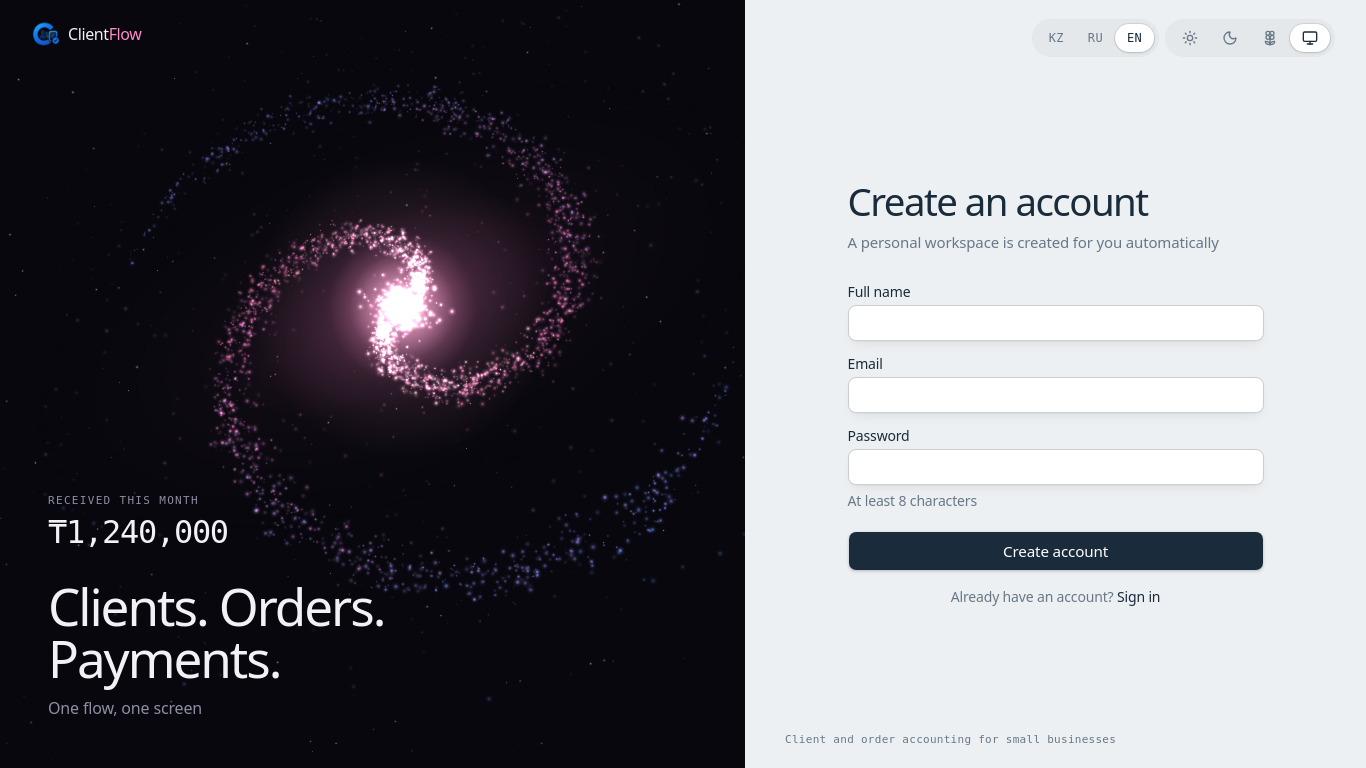
Test: registration › rejects a short password
Type "short" into the password field labelled "Password" at (1056,467), box [848, 449, 1264, 485]
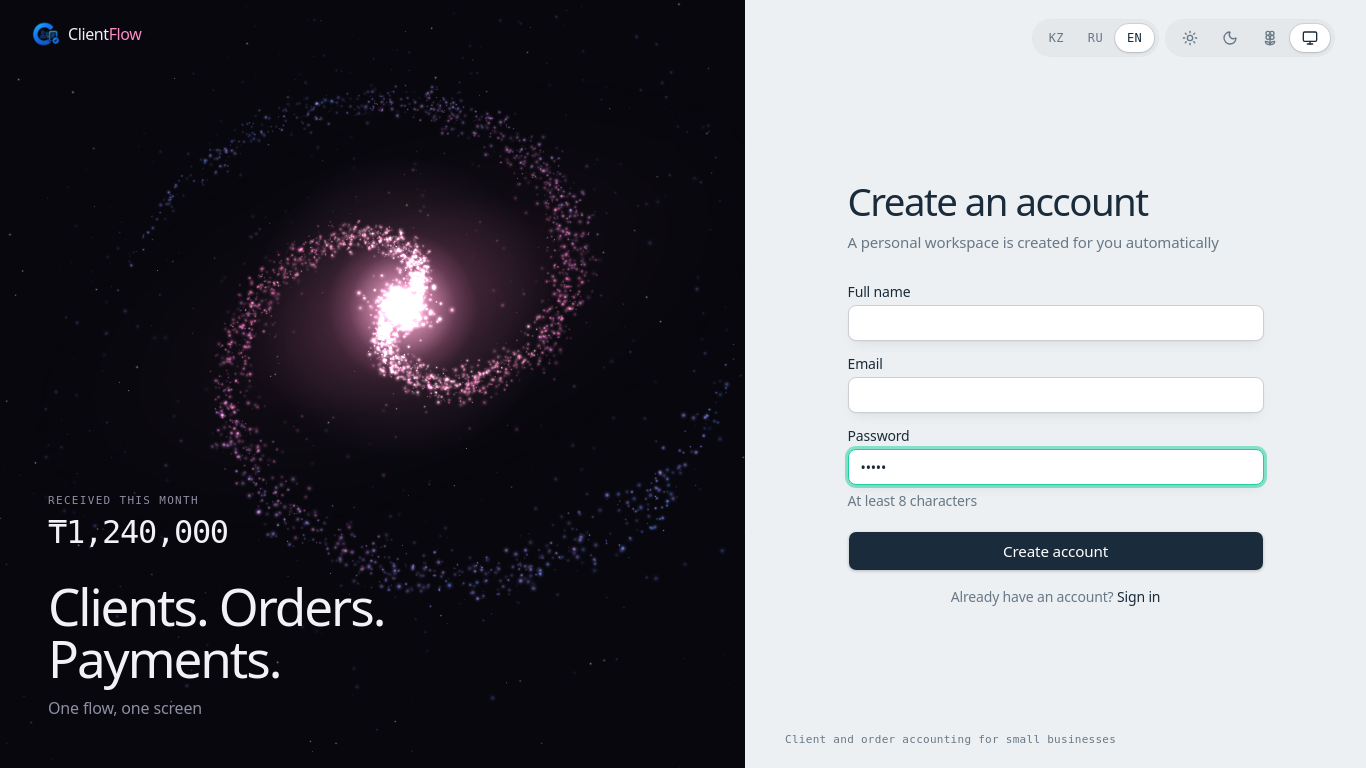
Click the button "Create account" at (1056,551), box [848, 531, 1264, 571]
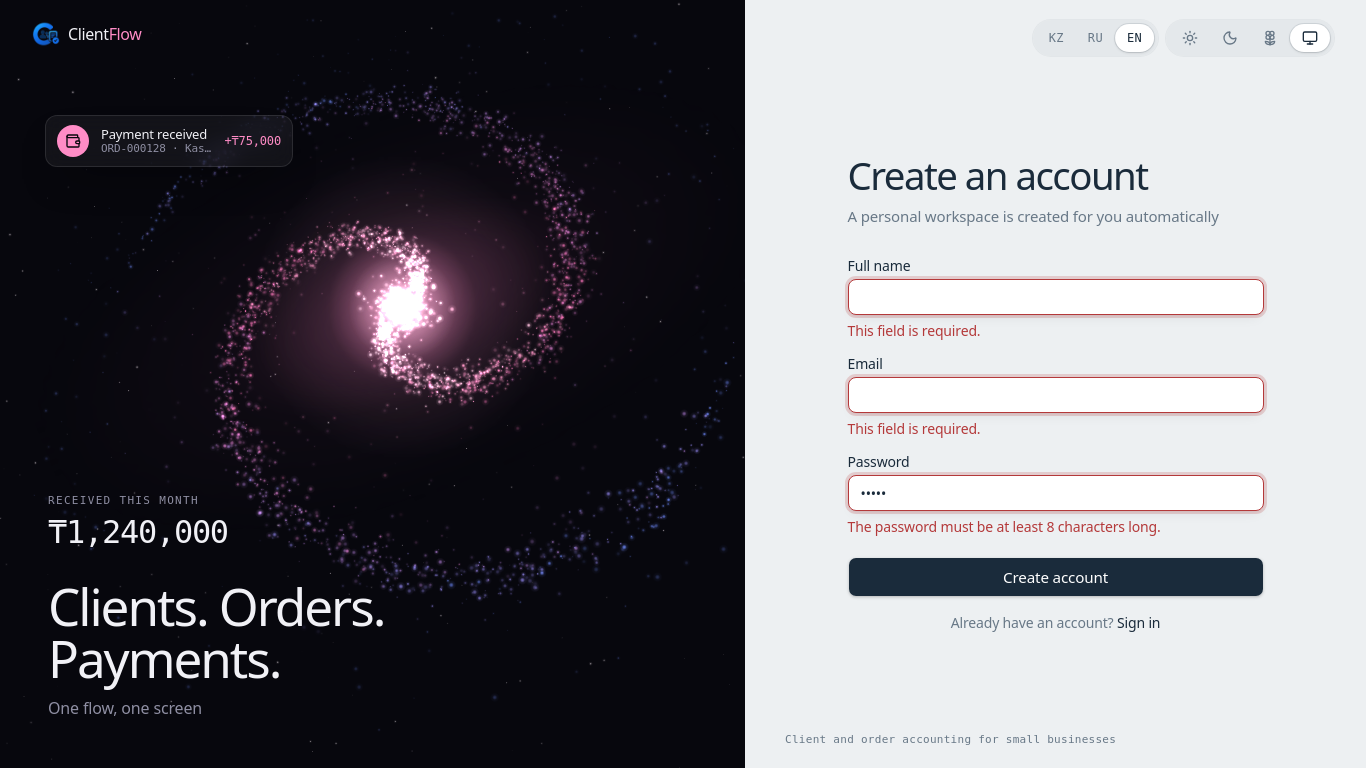
Result: the text "The password must be at least 8 characters long." is shown at [848, 517, 1161, 536]
